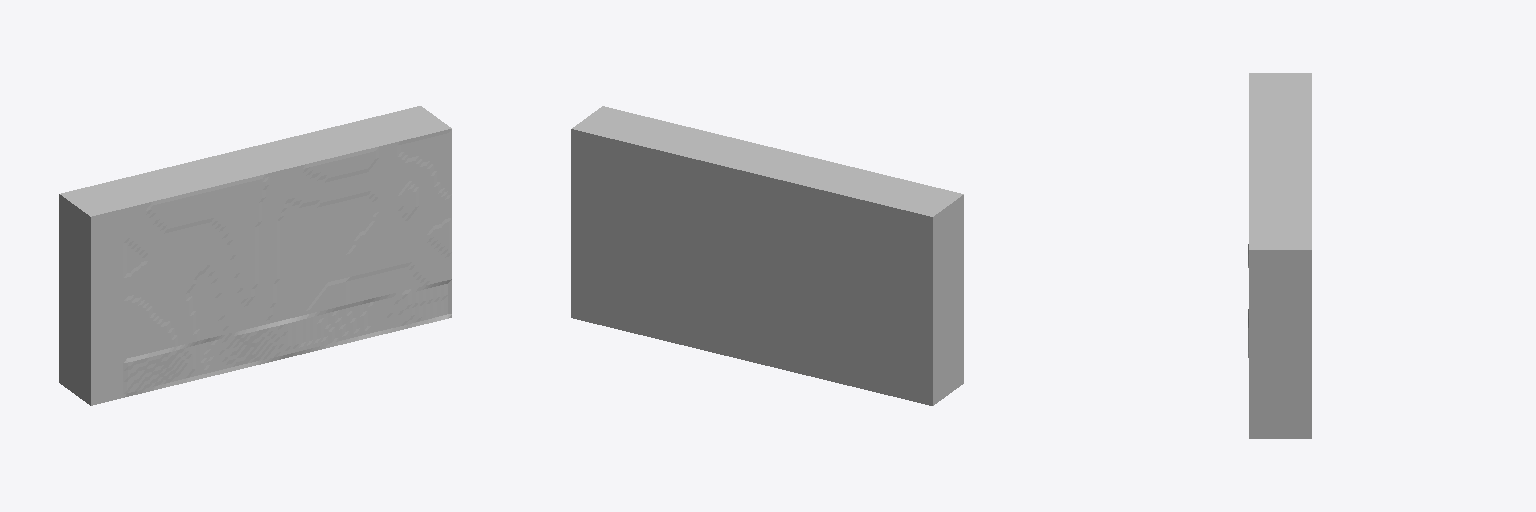
The model's file is rectangular_prism_bumps_0_5.obj.
The picture shows the model from 3 angles: view 1: azimuth 30°, elevation 25°; view 2: azimuth 150°, elevation 25°; view 3: azimuth 270°, elevation 25°; orthographic projection.
Bounding box in the file's own units: 10 × 5 × 1.52.